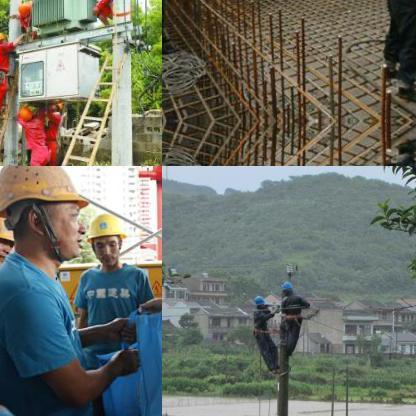Helmet: (0, 166, 92, 258), (81, 209, 129, 265), (0, 198, 19, 273), (252, 292, 268, 312), (16, 0, 32, 16), (18, 106, 34, 120), (281, 280, 293, 296), (0, 27, 7, 45)
